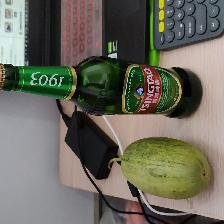gua: (112, 144, 214, 196)
